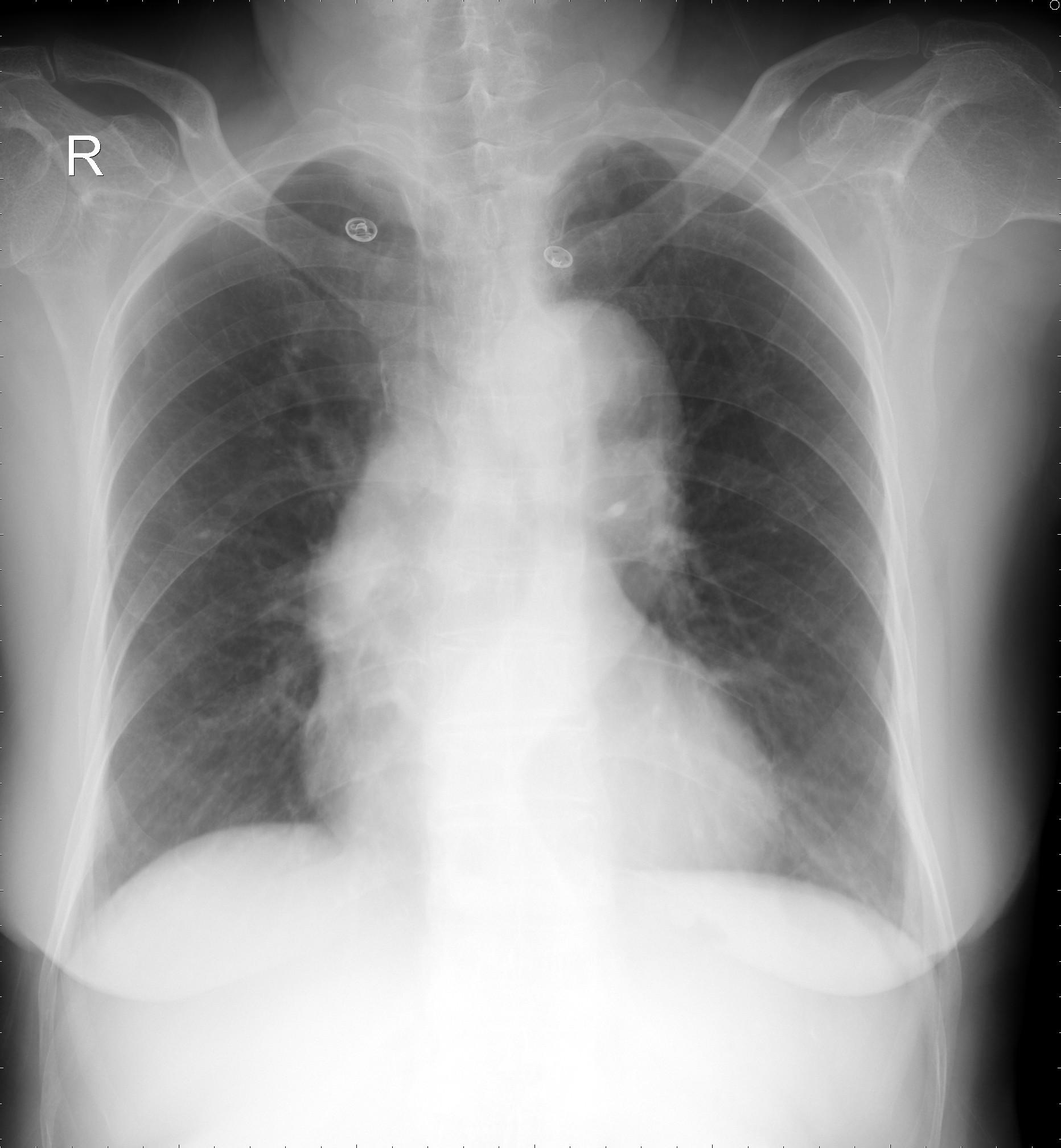Aortic enlargement: (520, 296, 692, 501)
Cardiomegaly: (293, 697, 787, 874)
